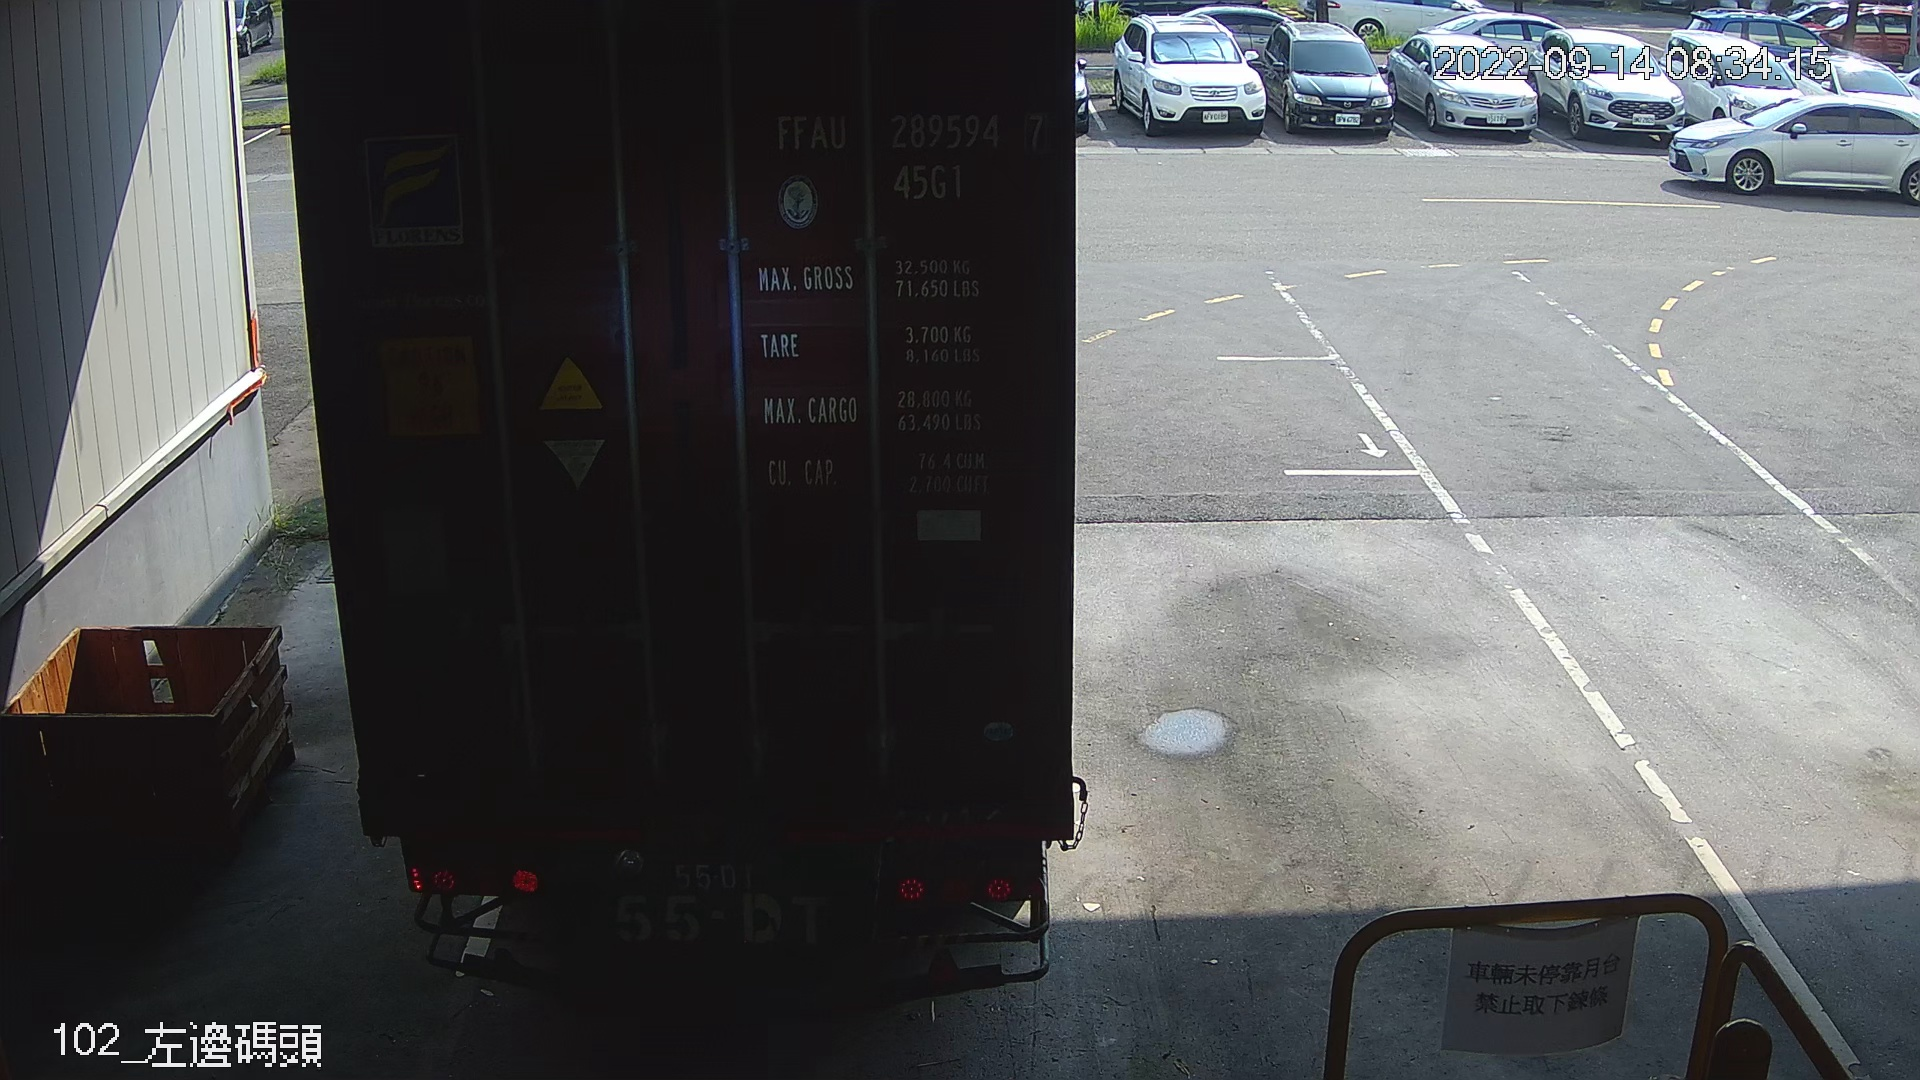container: (762, 98, 1056, 214)
